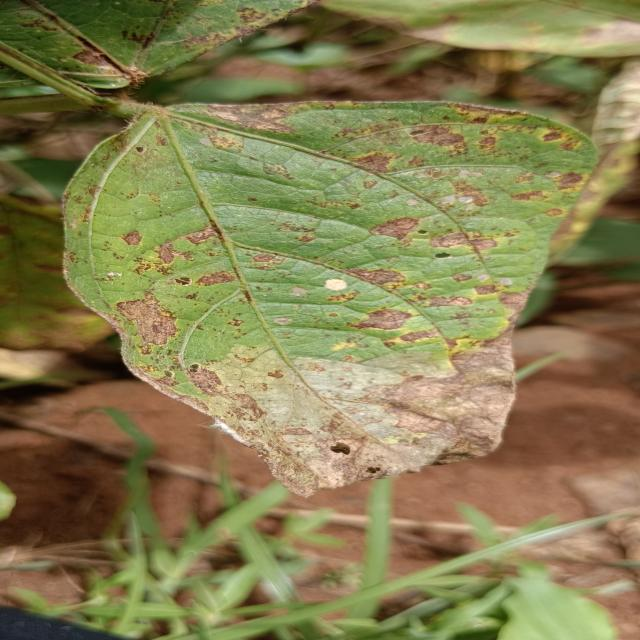Black gram_leaf spot: (50, 88, 604, 501)
